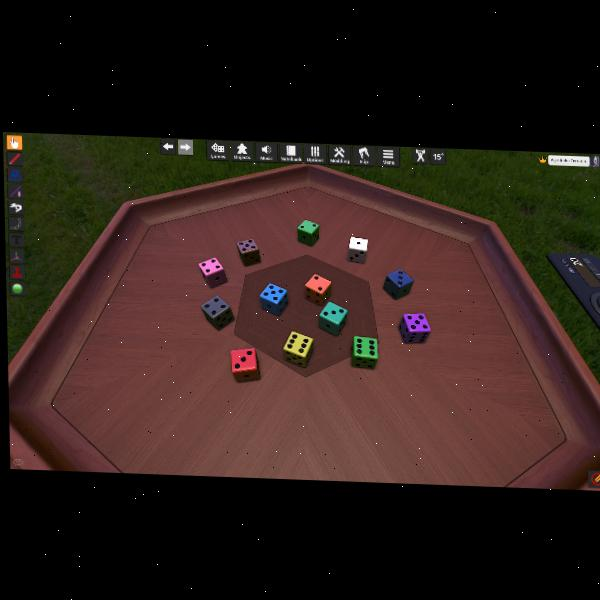d6: (230, 345, 264, 384), (202, 295, 234, 330), (282, 331, 313, 367), (318, 301, 347, 336), (260, 282, 289, 316), (400, 312, 430, 344), (198, 256, 226, 289), (383, 267, 411, 300), (304, 273, 331, 306), (351, 335, 376, 368), (236, 238, 261, 266), (346, 235, 368, 263), (297, 219, 319, 246)
